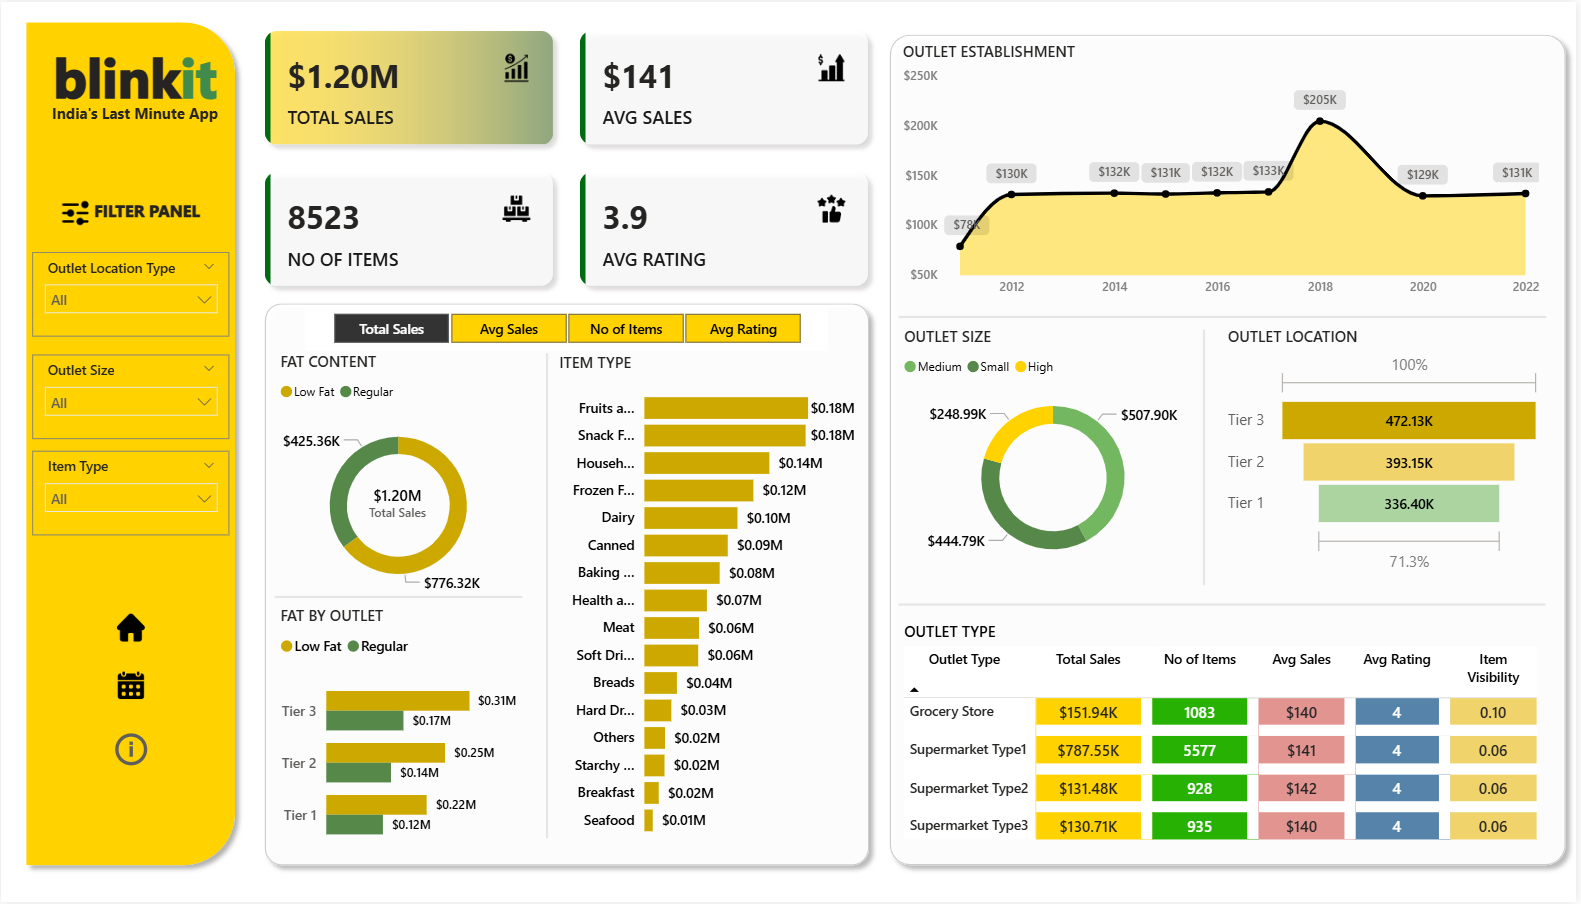

The page's visual inventory and layout, read from the dashboard file:
{"tool":"powerbi","page":{"name":"Home","canvas":[1400,800],"ordinal":0},"visuals":[{"type":"shape","box":[13.8,8.8,203.8,767.5],"z":0},{"type":"textbox","box":[31.8,28.8,174.1,82.5],"z":1000},{"type":"textbox","box":[16.6,85,205,35],"z":2000},{"type":"cardVisual","fields":{"Data":["BlinkIT Grocery Data.Total Sales","BlinkIT Grocery Data.Avg Sales","BlinkIT Grocery Data.No of Items","BlinkIT Grocery Data.Avg Rating"]},"box":[217.8,8.7,570,260],"z":3000},{"type":"shape","box":[225,258.8,555,517.5],"z":4000},{"type":"donutChart","title":"FAT CONTENT","fields":{"Y":["BlinkIT Grocery Data.Total Sales"],"Category":["BlinkIT Grocery Data.Item Fat Content"]},"box":[242.8,309.5,220,230],"z":5000},{"type":"slicer","fields":{"Values":["Metrics.Metrics"]},"box":[270.3,269.5,465,40],"z":6000},{"type":"cardVisual","fields":{"Data":["BlinkIT Grocery Data.Total Sales"]},"box":[299.1,411.2,107.5,66.2],"z":7000},{"type":"clusteredBarChart","title":"FAT BY OUTLET","fields":{"Y":["BlinkIT Grocery Data.Total Sales"],"Category":["BlinkIT Grocery Data.Outlet Location Type"],"Series":["BlinkIT Grocery Data.Item Fat Content"]},"box":[242.9,535.1,220,230],"z":8000},{"type":"shape","box":[242.8,518.7,220,20],"z":9000},{"type":"shape","box":[477.8,312.5,15.3,431.5],"z":10000},{"type":"barChart","title":"ITEM TYPE","fields":{"Y":["BlinkIT Grocery Data.Total Sales"],"Category":["BlinkIT Grocery Data.Item Type"]},"box":[491.2,310.8,272.5,441.2],"z":11000},{"type":"shape","box":[781.2,20,618.8,756.2],"z":12000},{"type":"lineChart","title":"OUTLET ESTABLISHMENT","fields":{"Category":["BlinkIT Grocery Data.Outlet Establishment Year"],"Y":["BlinkIT Grocery Data.Total Sales"]},"box":[797.1,34.3,575.7,235.7],"z":13000},{"type":"shape","box":[797.4,269.4,575.7,20],"z":14000},{"type":"donutChart","title":"OUTLET SIZE","fields":{"Y":["BlinkIT Grocery Data.Total Sales"],"Category":["BlinkIT Grocery Data.Outlet Size"]},"box":[797.4,288,275,225],"z":15000},{"type":"shape","box":[1065,291.2,7.5,227.5],"z":16000},{"type":"funnel","title":"OUTLET LOCATION","fields":{"Y":["Sum(BlinkIT Grocery Data.Sales)"],"Category":["BlinkIT Grocery Data.Outlet Location Type"]},"box":[1085.3,287.5,288.8,225],"z":17000},{"type":"shape","box":[797.5,525,575,20],"z":18000},{"type":"pivotTable","title":"OUTLET TYPE","fields":{"Rows":["BlinkIT Grocery Data.Outlet Type"],"Values":["BlinkIT Grocery Data.Total Sales","BlinkIT Grocery Data.No of Items","BlinkIT Grocery Data.Avg Sales","BlinkIT Grocery Data.Avg Rating","Avg(BlinkIT Grocery Data.Item Visibility)"]},"box":[797.5,550,587.5,201.2],"z":19000},{"type":"slicer","fields":{"Values":["BlinkIT Grocery Data.Outlet Location Type"]},"box":[28,222.6,175.5,75],"z":20000},{"type":"slicer","fields":{"Values":["BlinkIT Grocery Data.Outlet Size"]},"box":[28,312.9,175.5,75],"z":21000},{"type":"slicer","fields":{"Values":["BlinkIT Grocery Data.Item Type"]},"box":[28,399.3,175.5,75],"z":22000},{"type":"image","box":[96.7,539.2,36.9,34.3],"z":22001},{"type":"image","box":[96.7,587.6,38.2,39.4],"z":22002},{"type":"actionButton","box":[96.7,644.8,38.2,39.4],"z":22003},{"type":"image","box":[44.2,170.3,43.2,35.6],"z":22004,"group":"g1"},{"type":"textbox","box":[77.3,170.3,117,35.6],"z":22005,"group":"g1"},{"type":"group","id":"g1","title":"Group 1","box":[44.2,170.3,150.1,35.6],"z":22006}]}

Visuals, with their boxes in screenshot pixels (x1, y1, x2, y2), scaled from the page's 1400x800 canvas onto the 1581x904 screenshot:
shape: x1=16 y1=10 x2=246 y2=877
textbox: x1=36 y1=33 x2=233 y2=126
textbox: x1=19 y1=96 x2=250 y2=136
cardVisual - BlinkIT Grocery Data.Total Sales x BlinkIT Grocery Data.Avg Sales: x1=246 y1=10 x2=890 y2=304
shape: x1=254 y1=292 x2=881 y2=877
"FAT CONTENT" donutChart: x1=274 y1=350 x2=523 y2=610
slicer - Metrics.Metrics: x1=305 y1=305 x2=830 y2=350
cardVisual - BlinkIT Grocery Data.Total Sales: x1=338 y1=465 x2=459 y2=539
"FAT BY OUTLET" clusteredBarChart: x1=274 y1=605 x2=523 y2=865
shape: x1=274 y1=586 x2=523 y2=609
shape: x1=540 y1=353 x2=557 y2=841
"ITEM TYPE" barChart: x1=555 y1=351 x2=862 y2=850
shape: x1=882 y1=23 x2=1580 y2=877
"OUTLET ESTABLISHMENT" lineChart: x1=900 y1=39 x2=1550 y2=305
shape: x1=900 y1=304 x2=1551 y2=327
"OUTLET SIZE" donutChart: x1=900 y1=325 x2=1211 y2=580
shape: x1=1203 y1=329 x2=1211 y2=586
"OUTLET LOCATION" funnel: x1=1226 y1=325 x2=1552 y2=579
shape: x1=901 y1=593 x2=1550 y2=616
"OUTLET TYPE" pivotTable: x1=901 y1=621 x2=1564 y2=849
slicer - BlinkIT Grocery Data.Outlet Location Type: x1=32 y1=252 x2=230 y2=336
slicer - BlinkIT Grocery Data.Outlet Size: x1=32 y1=354 x2=230 y2=438
slicer - BlinkIT Grocery Data.Item Type: x1=32 y1=451 x2=230 y2=536
image: x1=109 y1=609 x2=151 y2=648
image: x1=109 y1=664 x2=152 y2=709
actionButton: x1=109 y1=729 x2=152 y2=773
image: x1=50 y1=192 x2=99 y2=233
textbox: x1=87 y1=192 x2=219 y2=233
"Group 1" group: x1=50 y1=192 x2=219 y2=233
